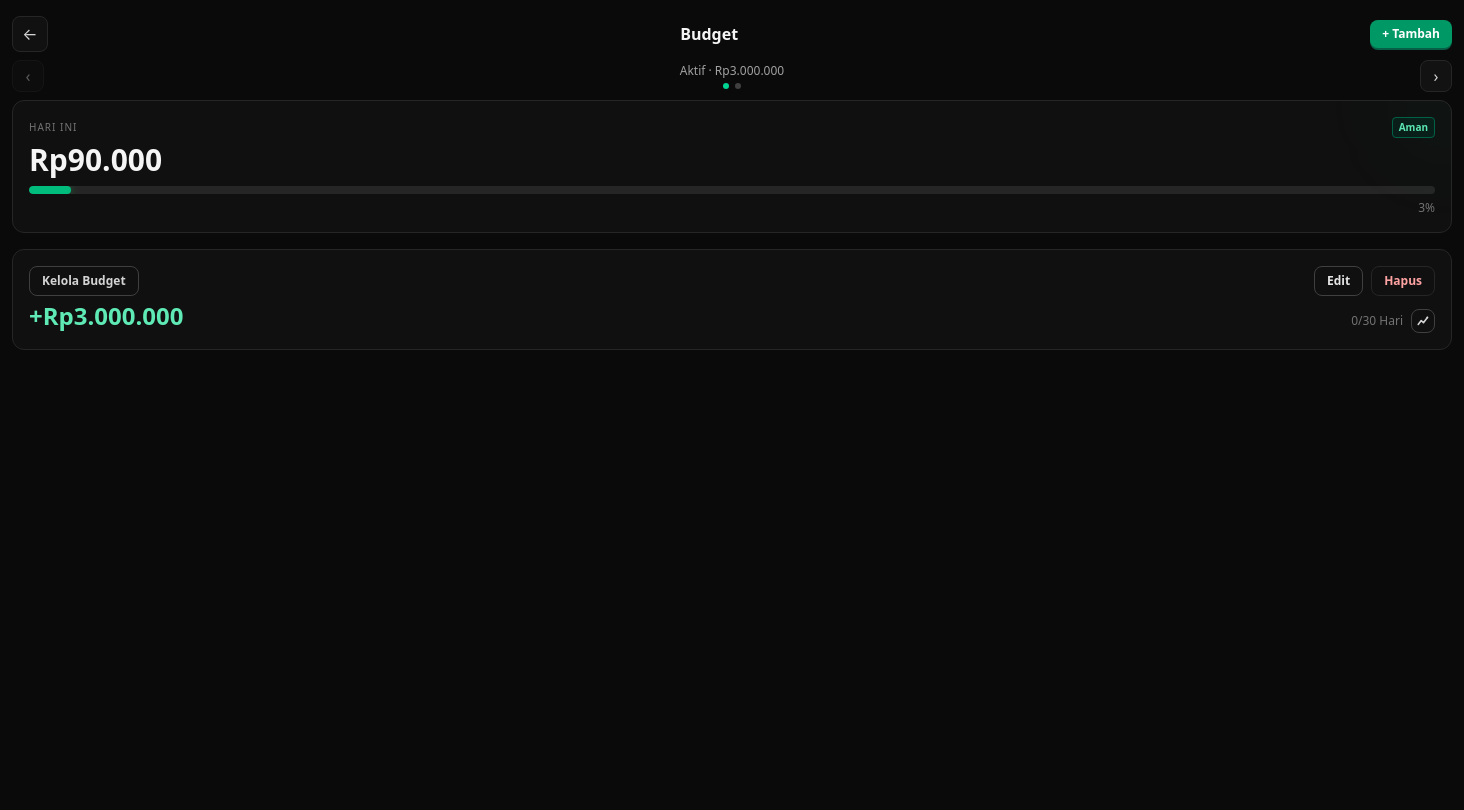
Test case: BudgetScreen — history navigation + forecast › moves to the past budget with › and back with ‹
Click the button with test id "budget-nav-next" at (1436,76), box [1420,60,1452,92]
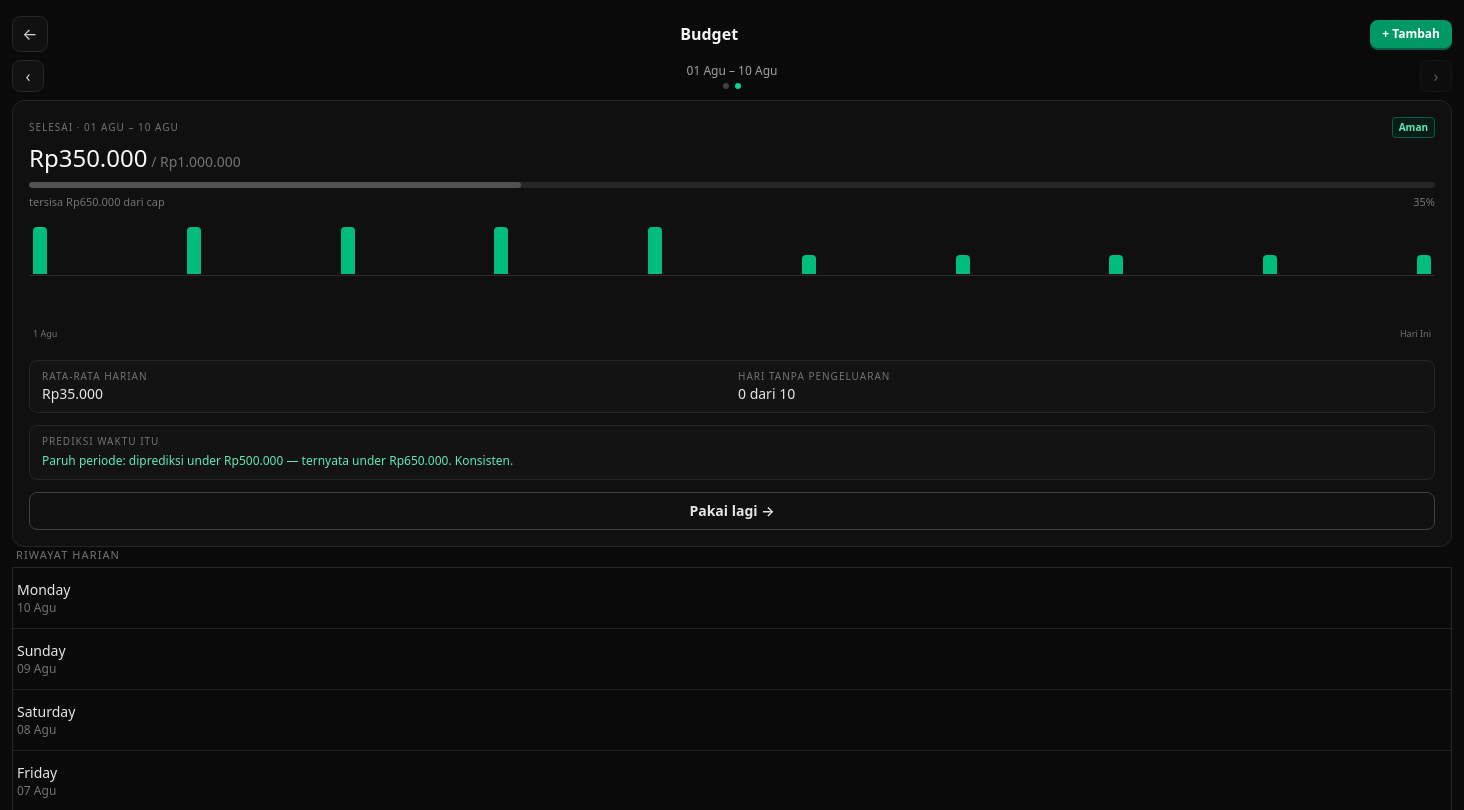
Expected: the element with test id "budget-past-card" is shown, [12,100,1452,546]
Expected: the element with test id "budget-past-forecast" is shown, [29,425,1435,480]
Expected: the element with test id "budget-today" is gone
Click the button with test id "budget-nav-prev" at (28,76), box [12,60,44,92]
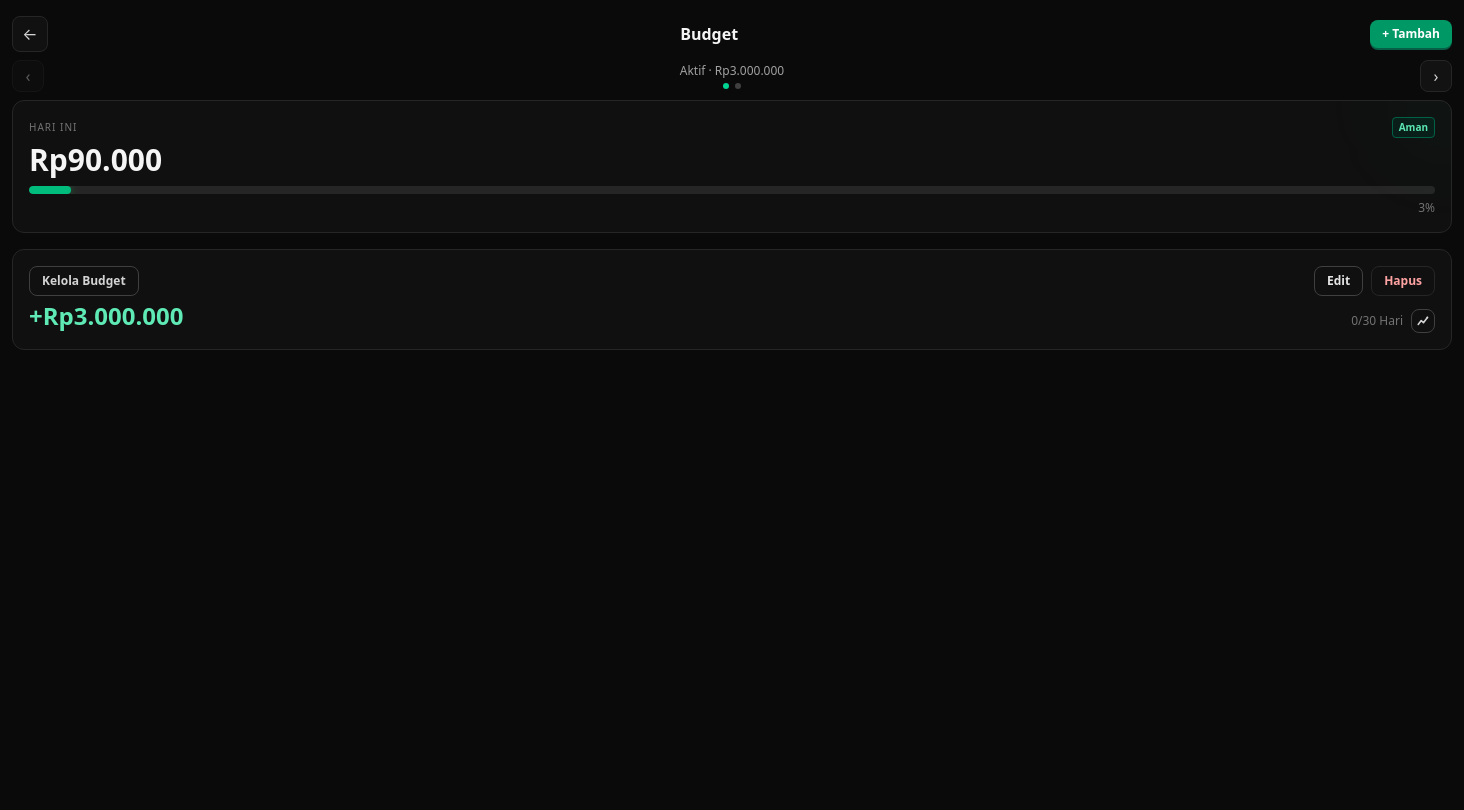
Expected: the element with test id "budget-today" is shown, [12,100,1452,233]
